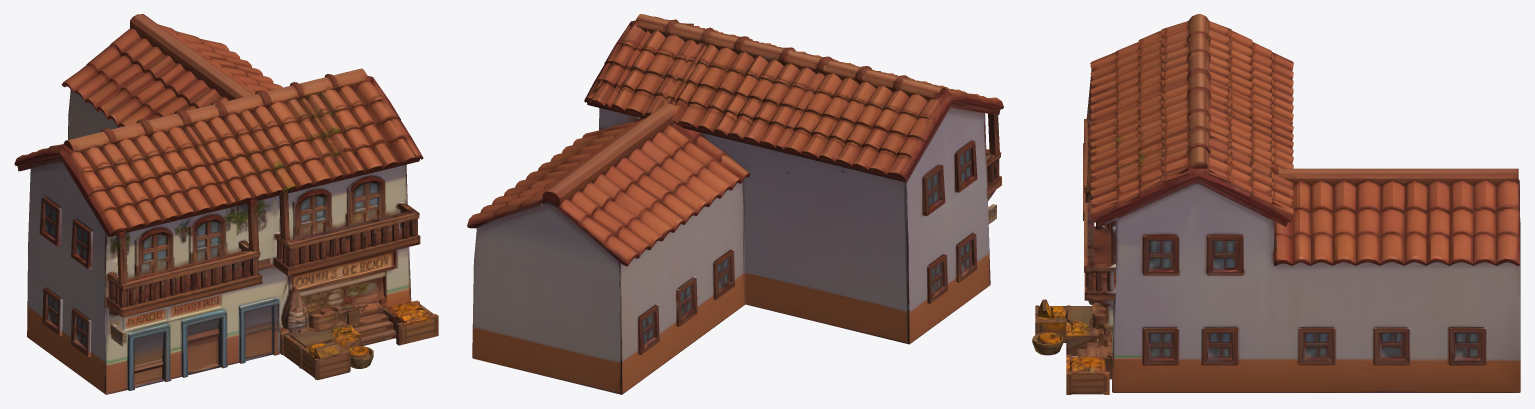
Rendered from CasaGrandeAlta.fbx.
3 views of the same model, side by side, from view 1: azimuth 30°, elevation 25°; view 2: azimuth 150°, elevation 25°; view 3: azimuth 270°, elevation 25° (orthographic). The views are drawn at different scales.
Parts seen in each view (by area): view 1: mesh_rep_0_ori_repair_quad; view 2: mesh_rep_0_ori_repair_quad; view 3: mesh_rep_0_ori_repair_quad.
Boxes of the visible parts, x1=… form: mesh_rep_0_ori_repair_quad: x1=14, y1=14, x2=438, y2=394; mesh_rep_0_ori_repair_quad: x1=467, y1=14, x2=1003, y2=394; mesh_rep_0_ori_repair_quad: x1=1032, y1=14, x2=1520, y2=394.
Bounding box in the file's own units: 157 × 106 × 205.
